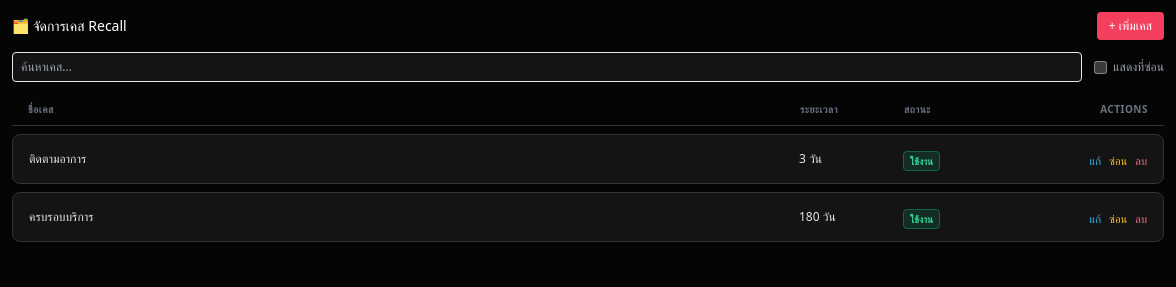
Test: Phase 29.23 C1 — RecallCasesAdminPanel delete button › C1.6 — delete error → error banner shown
This screenshot has width=1176, height=287.
Click the button with test id "recall-case-delete-CASE-1" at (1141, 161), box left=1135, top=153, right=1147, bottom=170
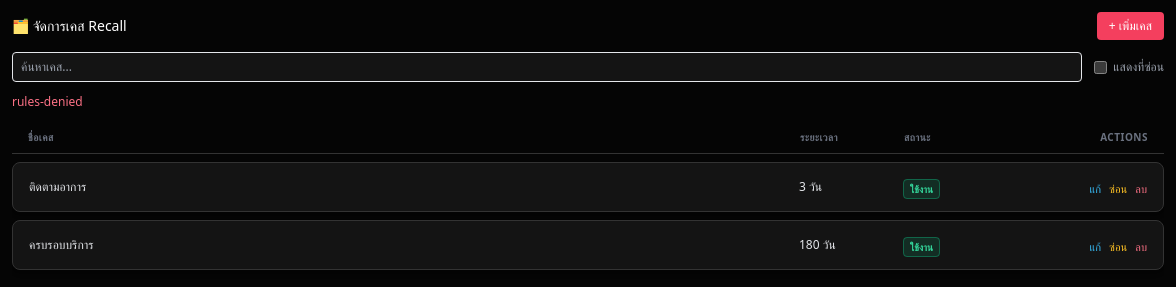
expect the message reads "rules-denied": met, box left=12, top=93, right=83, bottom=110
